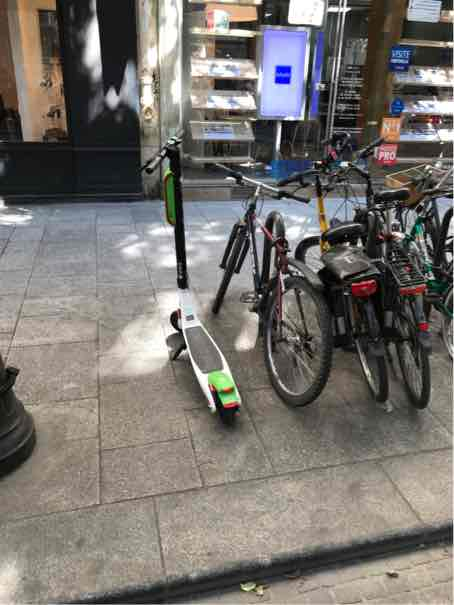scooter: (135, 134, 246, 432)
